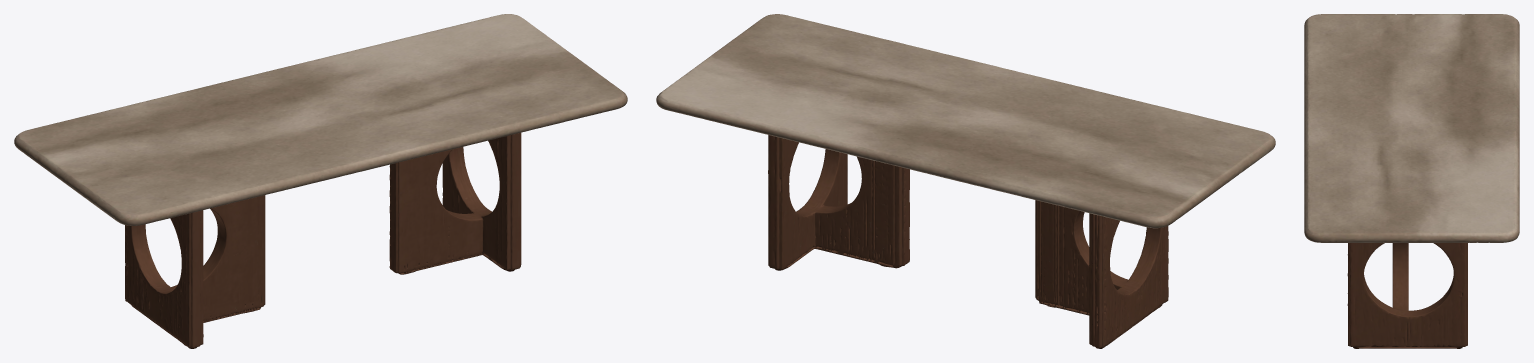
File: _qAT2rx3eFmhyYAVEqFL0.glb
3 views of the same model, side by side, from view 1: azimuth 30°, elevation 25°; view 2: azimuth 150°, elevation 25°; view 3: azimuth 270°, elevation 25° (orthographic). The views are drawn at different scales.
Visible parts, largest first — view 1: world; view 2: world; view 3: world.
Boxes of the visible parts, x1,y1,x2,y2 form: world: (14, 14, 627, 348); world: (656, 14, 1275, 348); world: (1304, 14, 1519, 348).
Size of the model in its own units: 1 by 0.3232 by 0.4094.
1 material, 1 textured.
